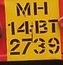character: (47, 36, 60, 55), (15, 1, 31, 16), (20, 37, 33, 55), (33, 36, 45, 55), (33, 1, 48, 15), (34, 19, 48, 34), (9, 38, 21, 55), (47, 18, 59, 34), (16, 20, 29, 34), (7, 21, 16, 35)
